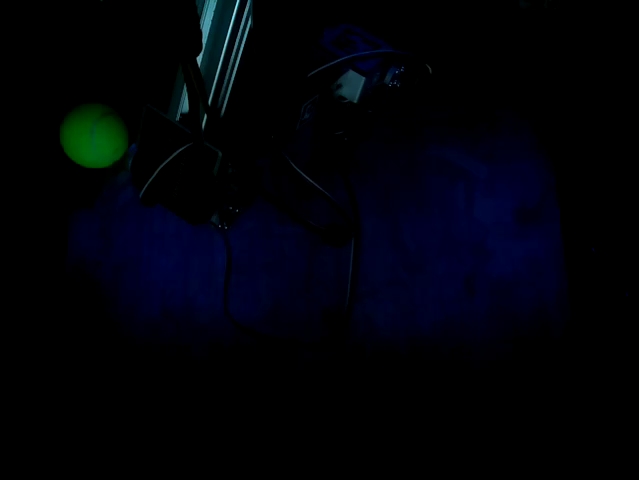tennis_ball: (58, 100, 129, 169)
